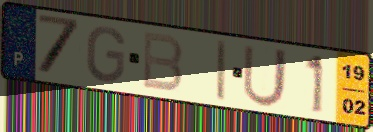1: (303, 54, 325, 116)
7: (35, 12, 82, 81)
B: (140, 29, 185, 94)
G: (84, 25, 128, 85)
I: (215, 39, 228, 104)
U: (241, 43, 290, 110)
